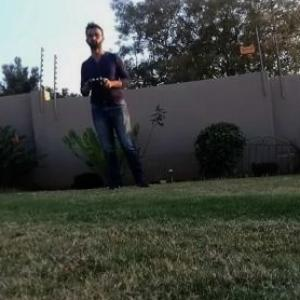follow: (77, 18, 158, 194)
